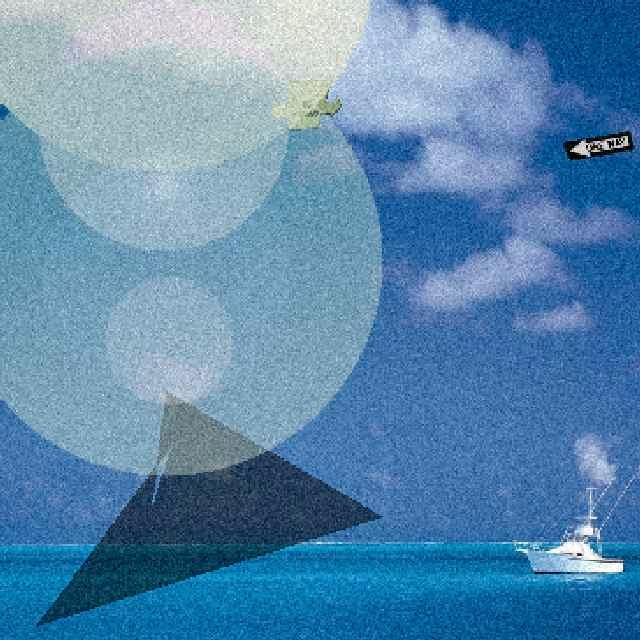GO_AROUND: (267, 78, 340, 129)
ONE_WAY_ left: (560, 129, 633, 160)
